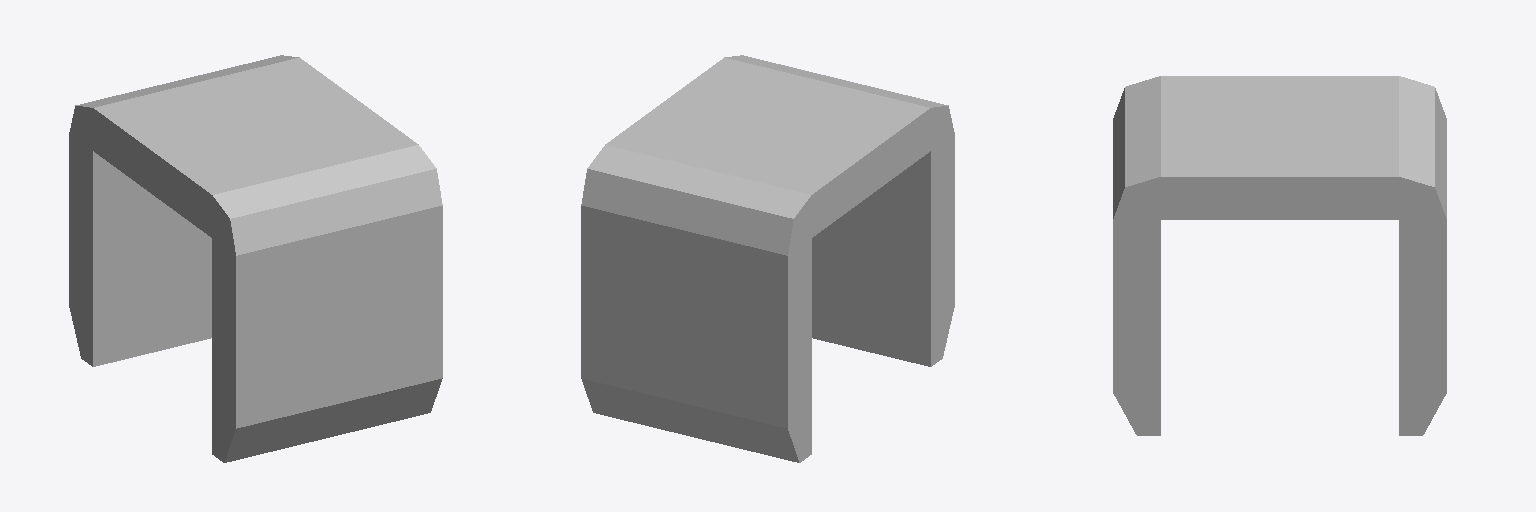
Rendered from cover.obj.
3 views of the same model, side by side, from view 1: azimuth 30°, elevation 25°; view 2: azimuth 150°, elevation 25°; view 3: azimuth 270°, elevation 25° (orthographic).
Visible parts, largest first — view 1: cover; view 2: cover; view 3: cover.
Boxes of the visible parts, x1=… form: cover: x1=69, y1=55, x2=442, y2=462; cover: x1=581, y1=55, x2=954, y2=462; cover: x1=1113, y1=76, x2=1446, y2=435.
Bounding box in the file's own units: 1 × 1.2 × 1.4.